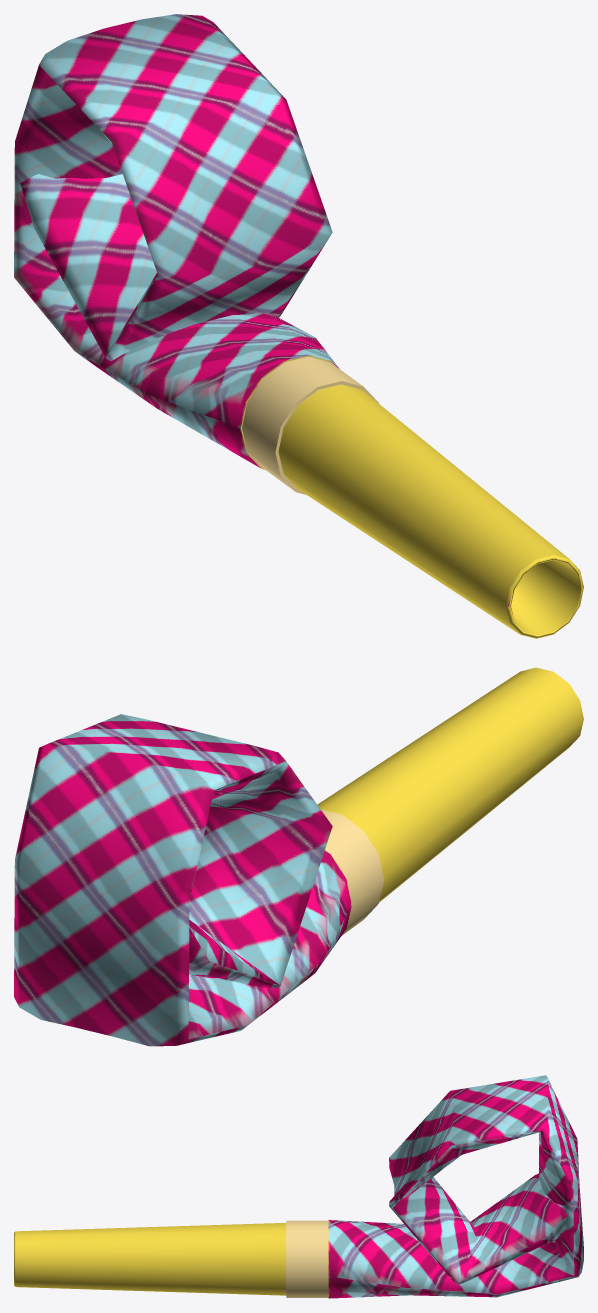
The model's file is M_Sifflet.fbx.
3 renders of one model, top to bottom at view 1: azimuth 30°, elevation 25°; view 2: azimuth 150°, elevation 25°; view 3: azimuth 270°, elevation 25°, orthographic. The views are drawn at different scales.
Visible parts, largest first — view 1: Sifflet1; view 2: Sifflet1; view 3: Sifflet1.
Part boxes in pixels (x1=…): Sifflet1: x1=14, y1=14, x2=583, y2=638; Sifflet1: x1=14, y1=667, x2=583, y2=1046; Sifflet1: x1=14, y1=1075, x2=583, y2=1298.
Size of the model in its own units: 4.46 by 7.82 by 20.02.
